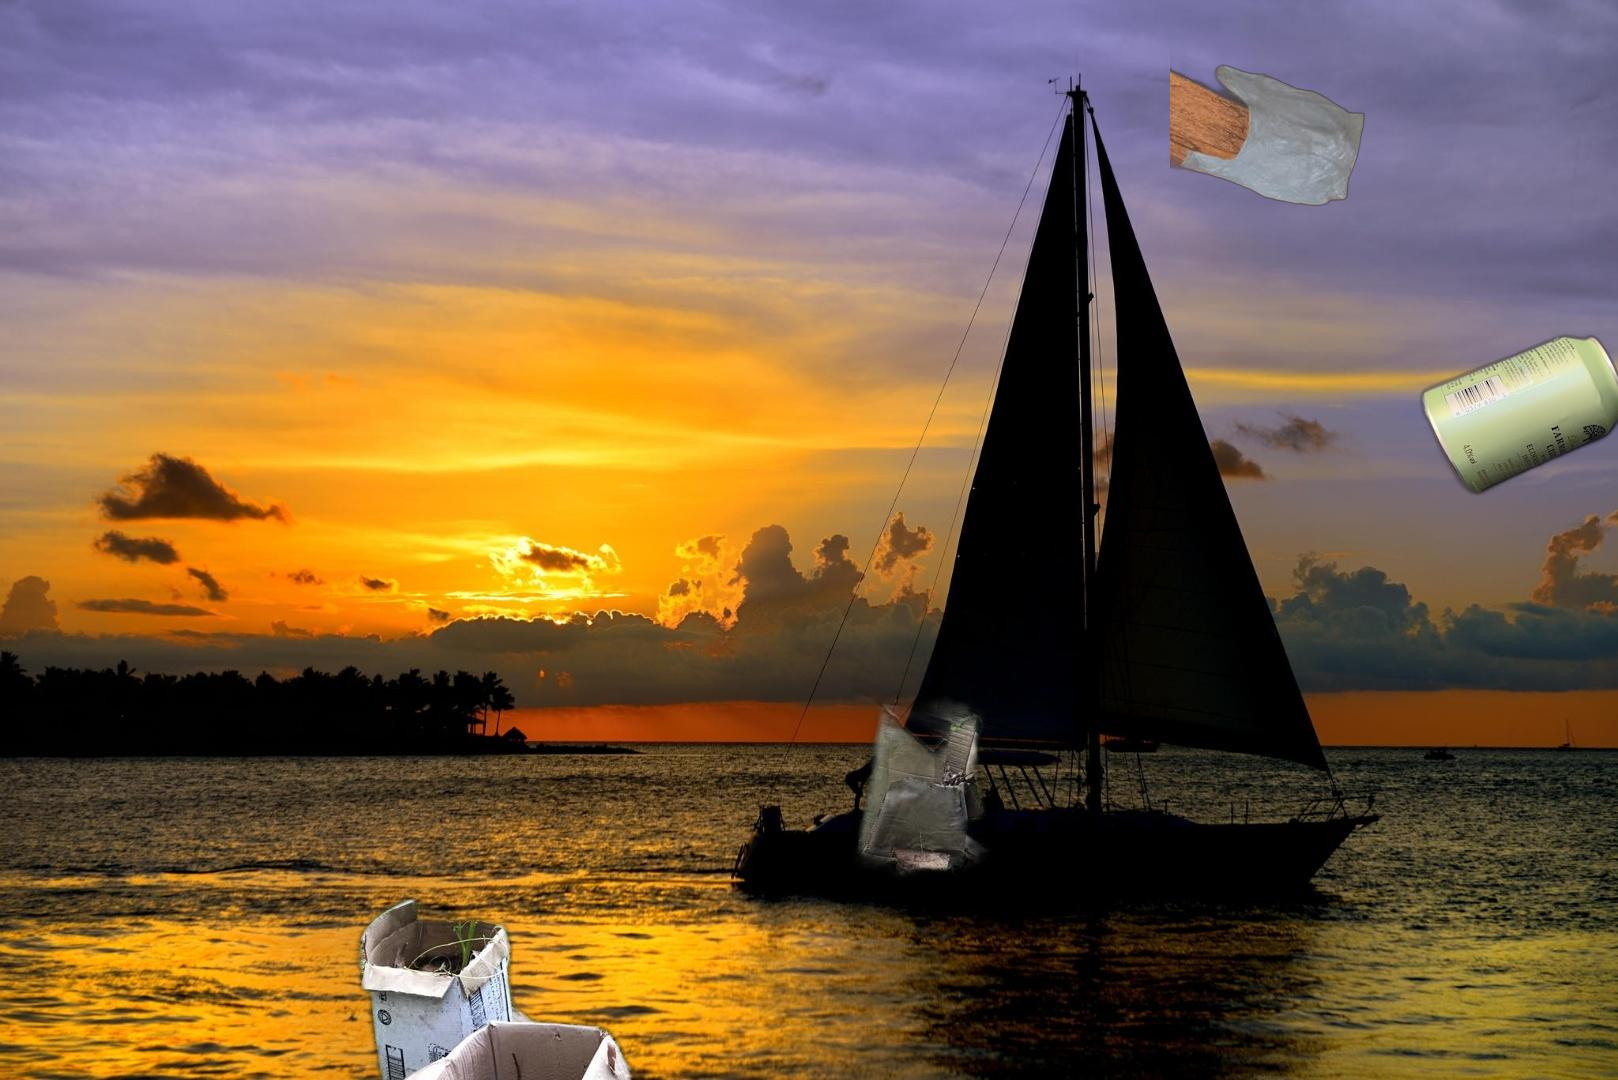metal-cans: (1417, 137, 1618, 820)
plastic-bag: (1170, 19, 1366, 209)
trashbox-cardboard: (320, 645, 1019, 1080)
